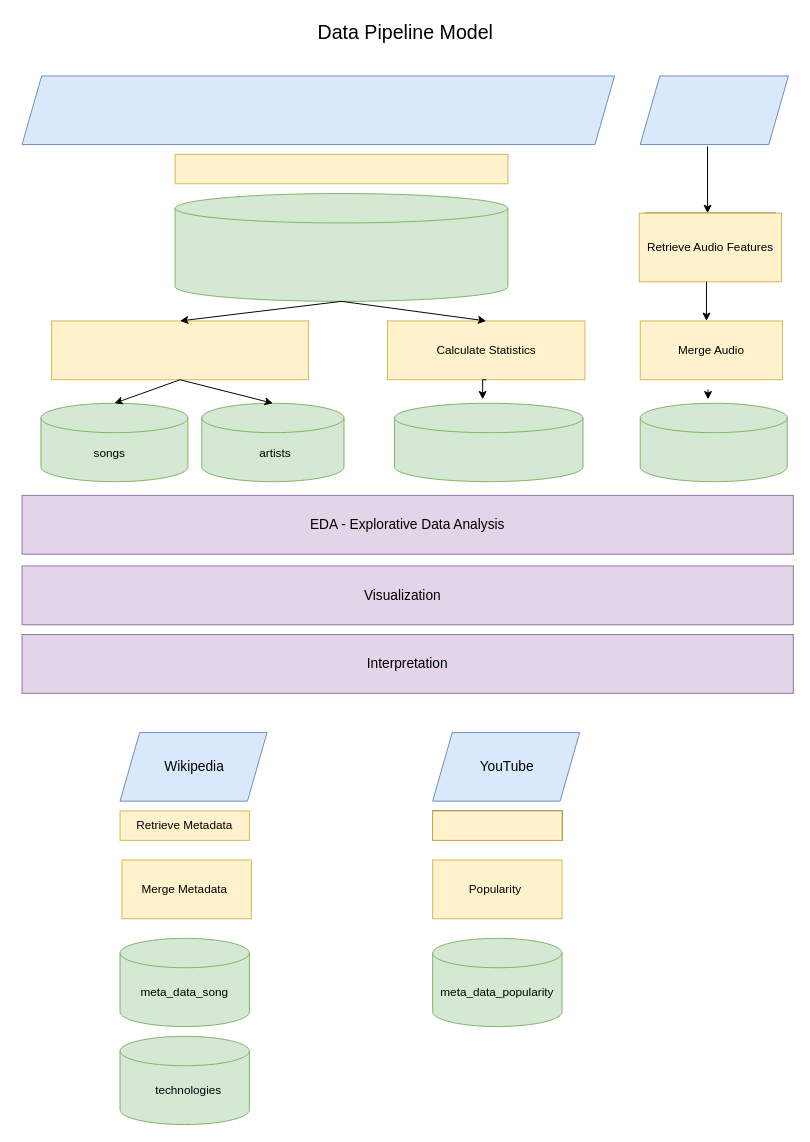
The diagram is 810 pixels wide and 1142 high, and some of its shapes have lost their labels. The shapes that lost their labels are listed below. From the top down, each one's box as (x1, y1, x2, y2) in pixels, then its label:
(21, 75, 615, 145): Raw Chart Data (Billaboard)
(639, 75, 788, 145): Spotify API
(174, 153, 508, 184): Import
(174, 193, 508, 301): chart_history
(51, 320, 308, 380): Extract Songs
(393, 402, 583, 482): chart_statistics
(639, 402, 787, 482): audio_features
(432, 810, 562, 840): Retrieve Popularity
